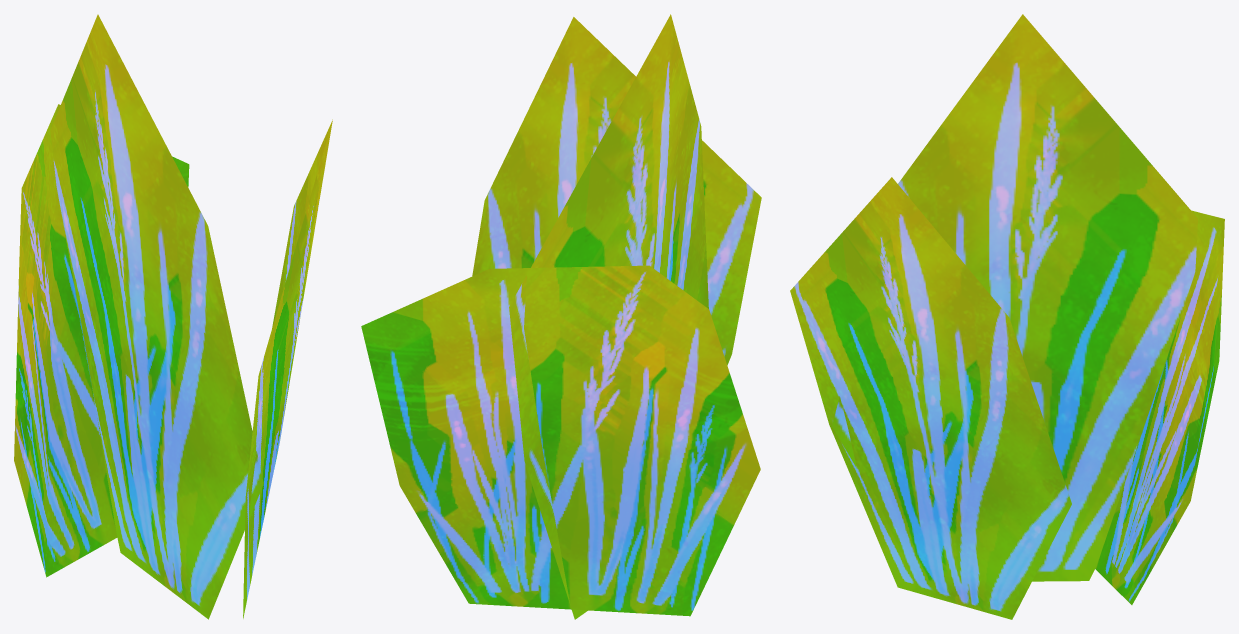
Rendered from SM_Alpha_grass_cliffs.fbx.
3 views of the same model, side by side, from view 1: azimuth 30°, elevation 25°; view 2: azimuth 150°, elevation 25°; view 3: azimuth 270°, elevation 25° (orthographic). The views are drawn at different scales.
Parts seen in each view (by area): view 1: SM_Alpha_grass_cliffs_LOD0; view 2: SM_Alpha_grass_cliffs_LOD0; view 3: SM_Alpha_grass_cliffs_LOD0.
Boxes of the visible parts, bbox=[...] form: SM_Alpha_grass_cliffs_LOD0: bbox=[14, 14, 332, 619]; SM_Alpha_grass_cliffs_LOD0: bbox=[361, 14, 761, 619]; SM_Alpha_grass_cliffs_LOD0: bbox=[790, 14, 1224, 619].
Size of the model in its own units: 26.62 by 38.02 by 52.32.
